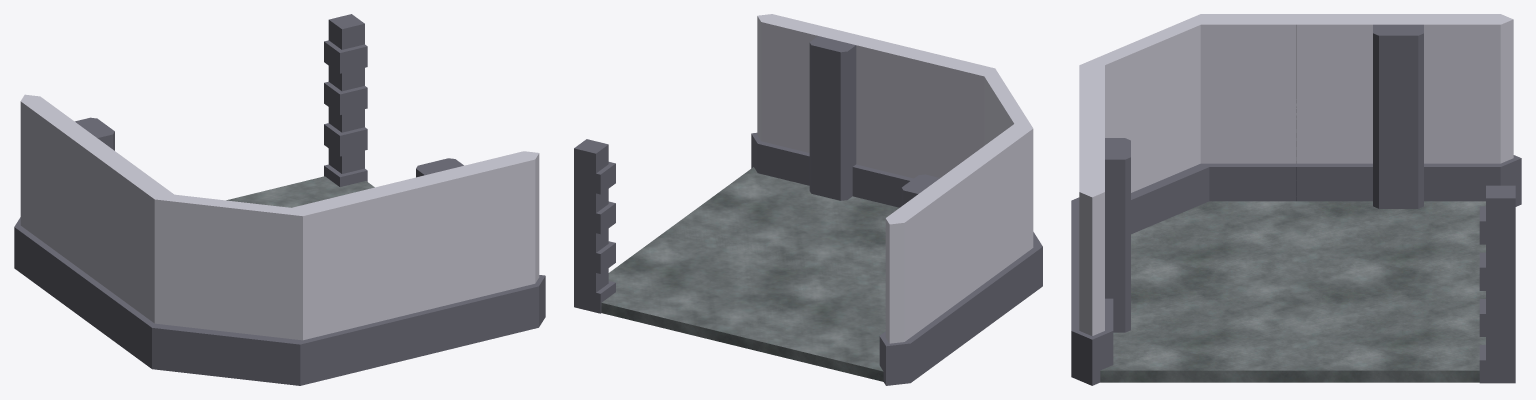
File: corner_05.fbx
3 views of the same model, side by side, from view 1: azimuth 30°, elevation 25°; view 2: azimuth 150°, elevation 25°; view 3: azimuth 270°, elevation 25° (orthographic). The views are drawn at different scales.
Parts seen in each view (by area): view 1: corner_02_11, wall_02_2, wall_02_3, wall_borderBricks_7, floor_02_10; view 2: floor_02_10, wall_02_2, wall_02_3, corner_02_11, wall_borderBricks_7; view 3: floor_02_10, wall_02_3, corner_02_11, wall_02_2, wall_borderBricks_7.
Part boxes in pixels (bbox=[...]): corner_02_11: bbox=[105, 163, 382, 385]; wall_02_2: bbox=[362, 151, 545, 365]; wall_02_3: bbox=[14, 94, 131, 334]; wall_borderBricks_7: bbox=[324, 14, 367, 186]; floor_02_10: bbox=[226, 176, 374, 207]; floor_02_10: bbox=[601, 167, 899, 381]; wall_02_2: bbox=[751, 14, 927, 207]; wall_02_3: bbox=[879, 152, 998, 385]; corner_02_11: bbox=[908, 51, 1042, 318]; wall_borderBricks_7: bbox=[574, 139, 615, 313]; floor_02_10: bbox=[1100, 201, 1485, 382]; wall_02_3: bbox=[1284, 14, 1521, 208]; corner_02_11: bbox=[1071, 14, 1308, 247]; wall_02_2: bbox=[1071, 100, 1130, 385]; wall_borderBricks_7: bbox=[1479, 185, 1515, 383].
Bounding box in the file's own units: 22.05 × 10 × 22.05.
